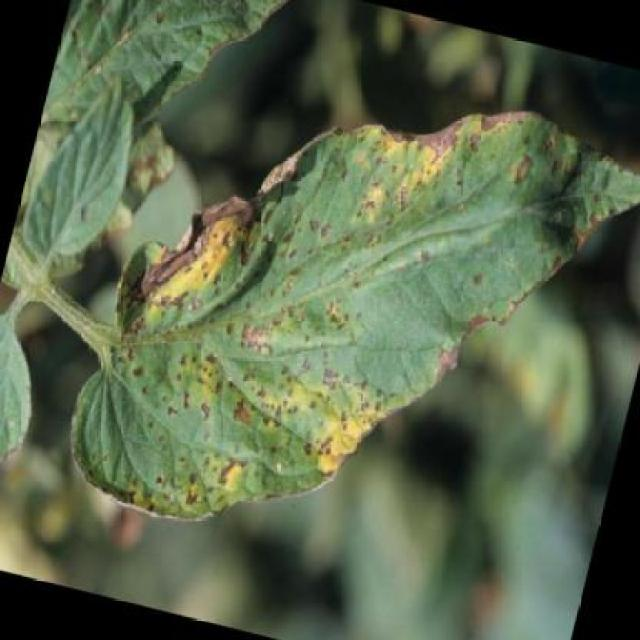Tomato leaf bacterial spot: (70, 28, 638, 628)
